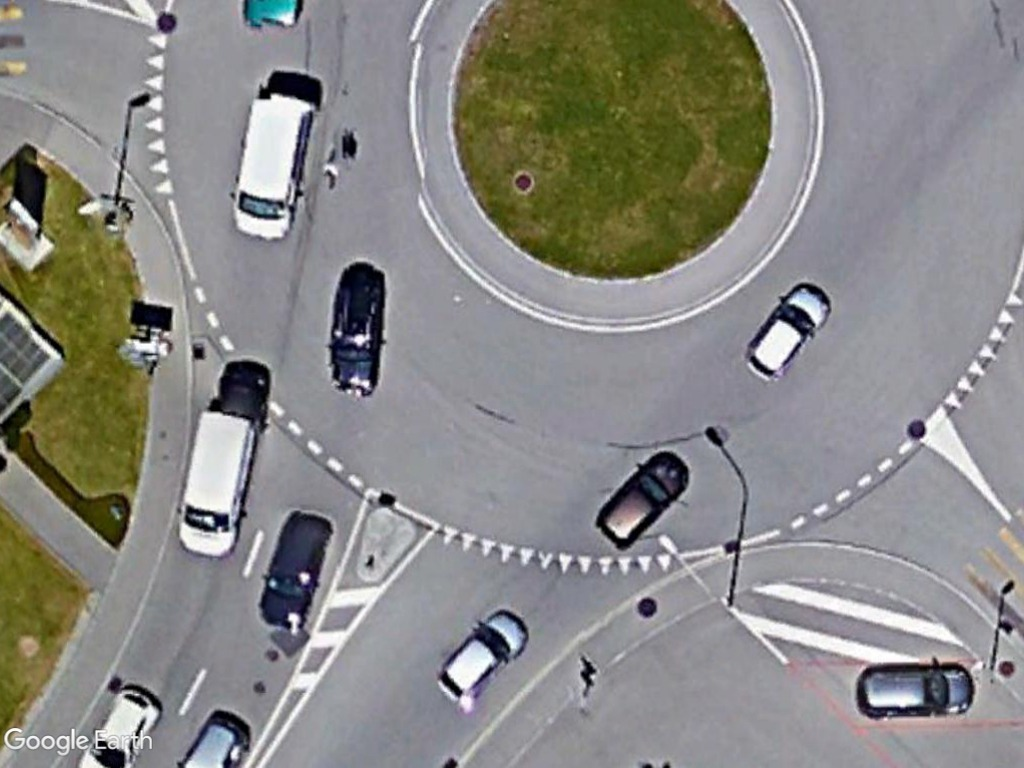car: (742, 278, 835, 388), (594, 448, 692, 551), (435, 607, 533, 709), (257, 506, 335, 632), (327, 262, 387, 400), (854, 661, 977, 722)
van: (227, 86, 318, 246), (176, 404, 262, 563)
